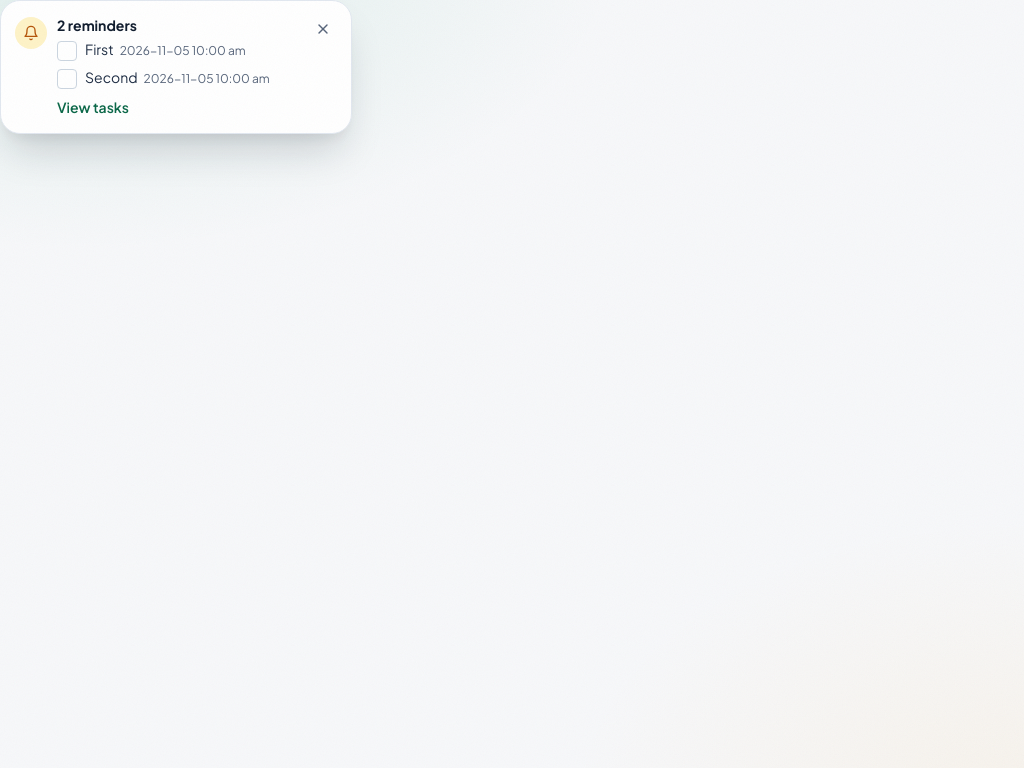
Test: useTaskReminders › ticks a reminder off from the pop-up, and closes it after the last one
Later steps or results of the test are not shown.
Step 1. Click the button named "Mark \"First\" as done" → (67, 51), box [57,41,77,61]
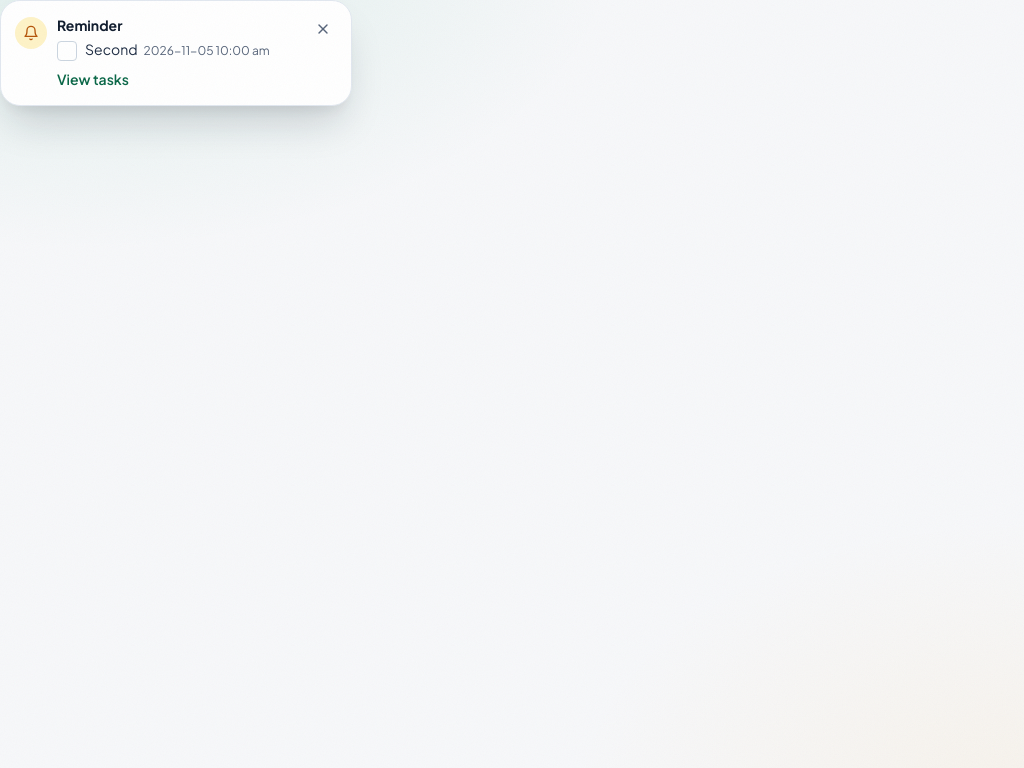
Expected: the text "First" is gone
